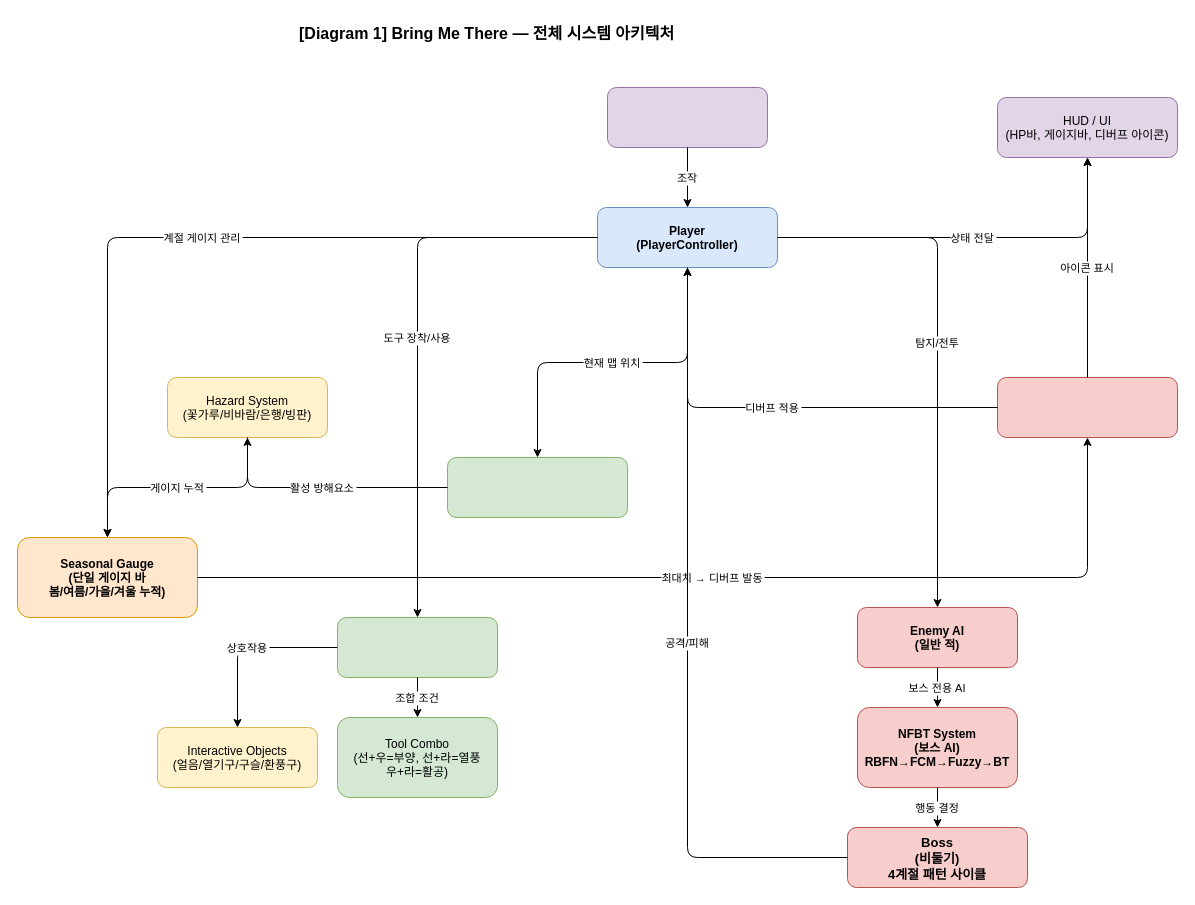
Image size: 1195x905. Some labels were removed from this diagram. The box of each missing label's shape, as (x1, y1, x2, y2) in pixels:
Debuff Manager (속박/이속저하/혼란/빙결): (996, 376, 1178, 438)
Input System (방향키, C=점프, 도구): (606, 86, 768, 148)
Map Manager (봄/여름/가을/겨울 맵 전환): (446, 456, 628, 518)
Tool System (선풍기/우산/라이터): (336, 616, 498, 678)
